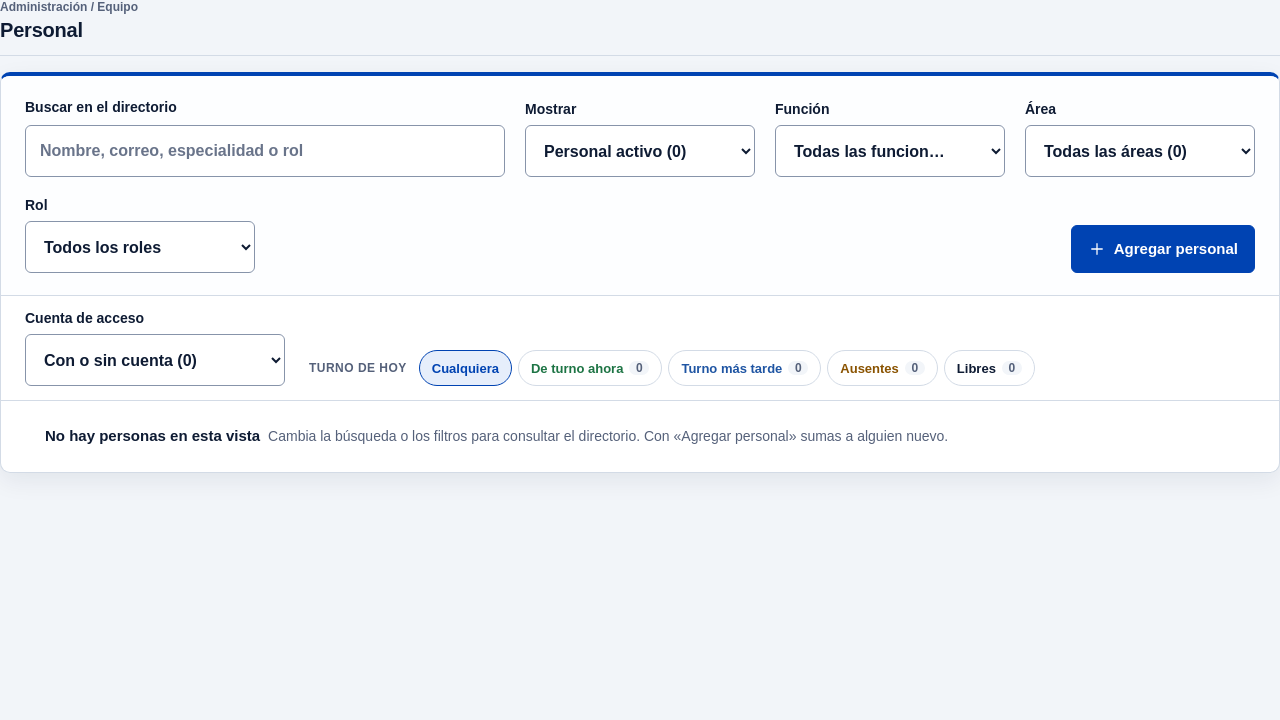
Test: G1 · registrar e invitar en un solo acto › sin la casilla registra solo la ficha y lo avisa
Click the button "Agregar personal".
click(1163, 249)  # box [1071, 225, 1255, 273]
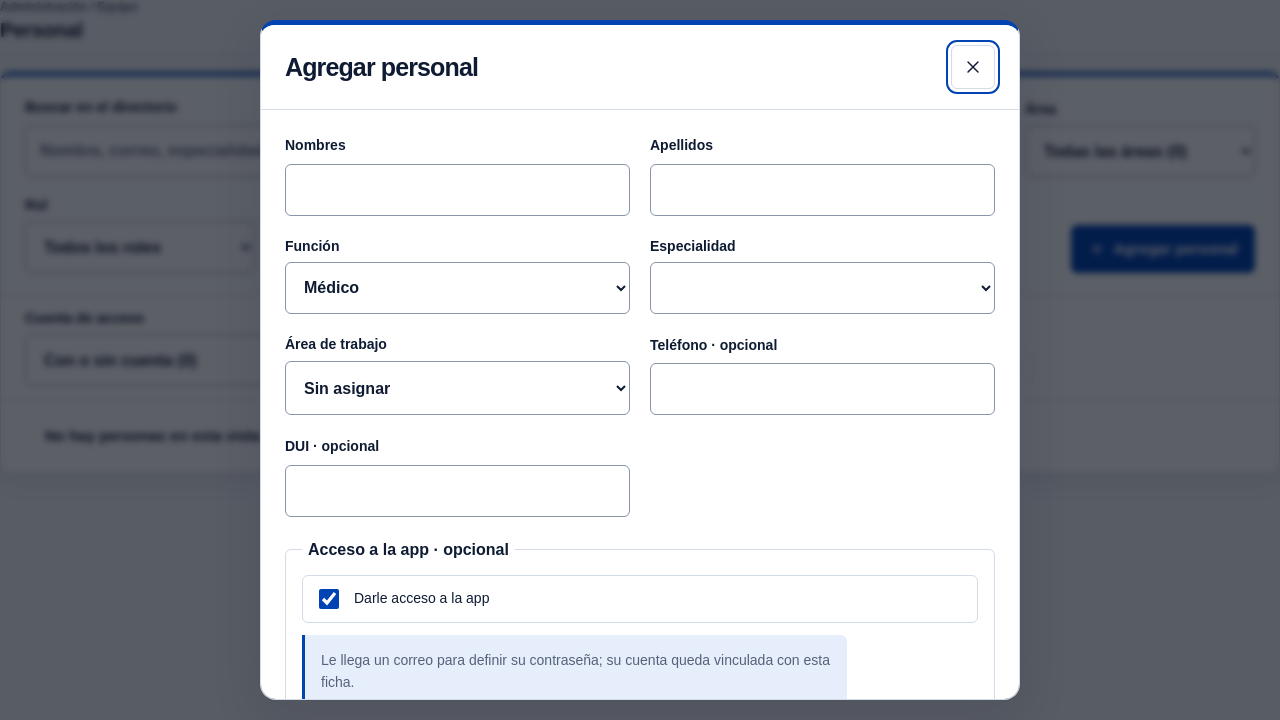
Type "Ana" into the field labelled "Nombres".
click(458, 190); type("Ana")  # box [285, 164, 630, 216]
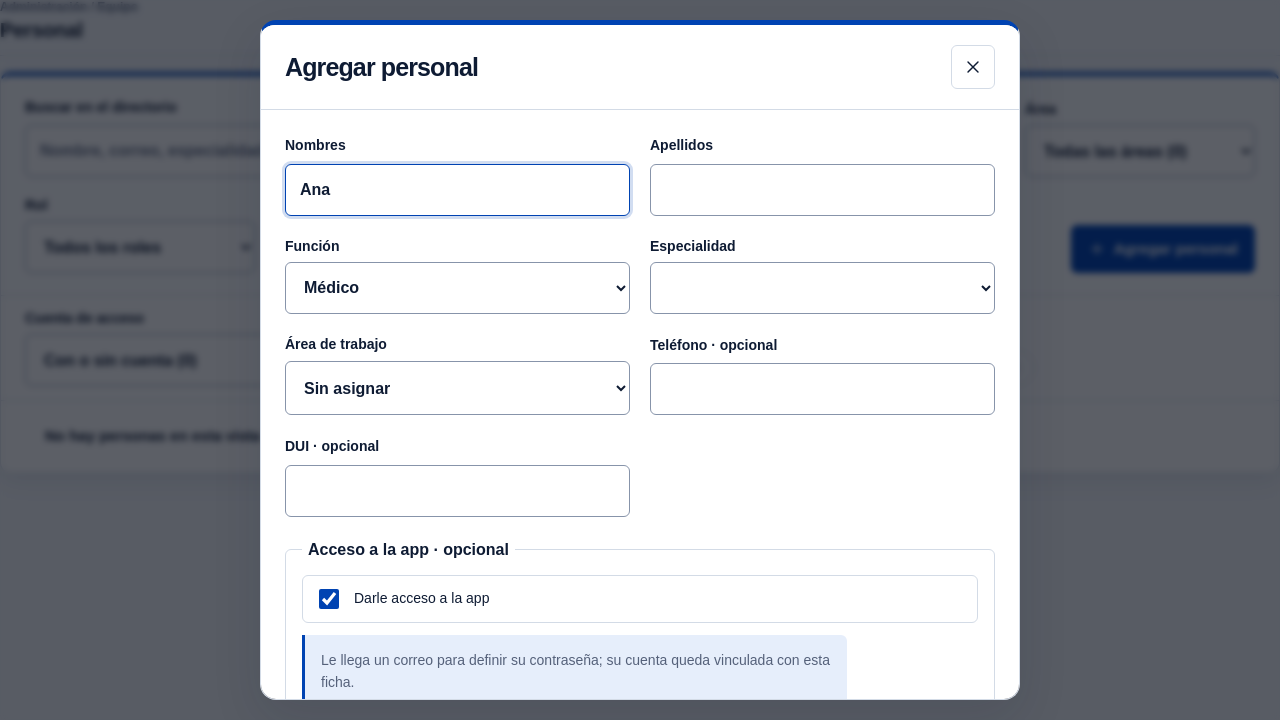
Type "Pérez Ficticia" into the field labelled "Apellidos".
click(822, 190); type("Pérez Ficticia")  # box [650, 164, 995, 216]
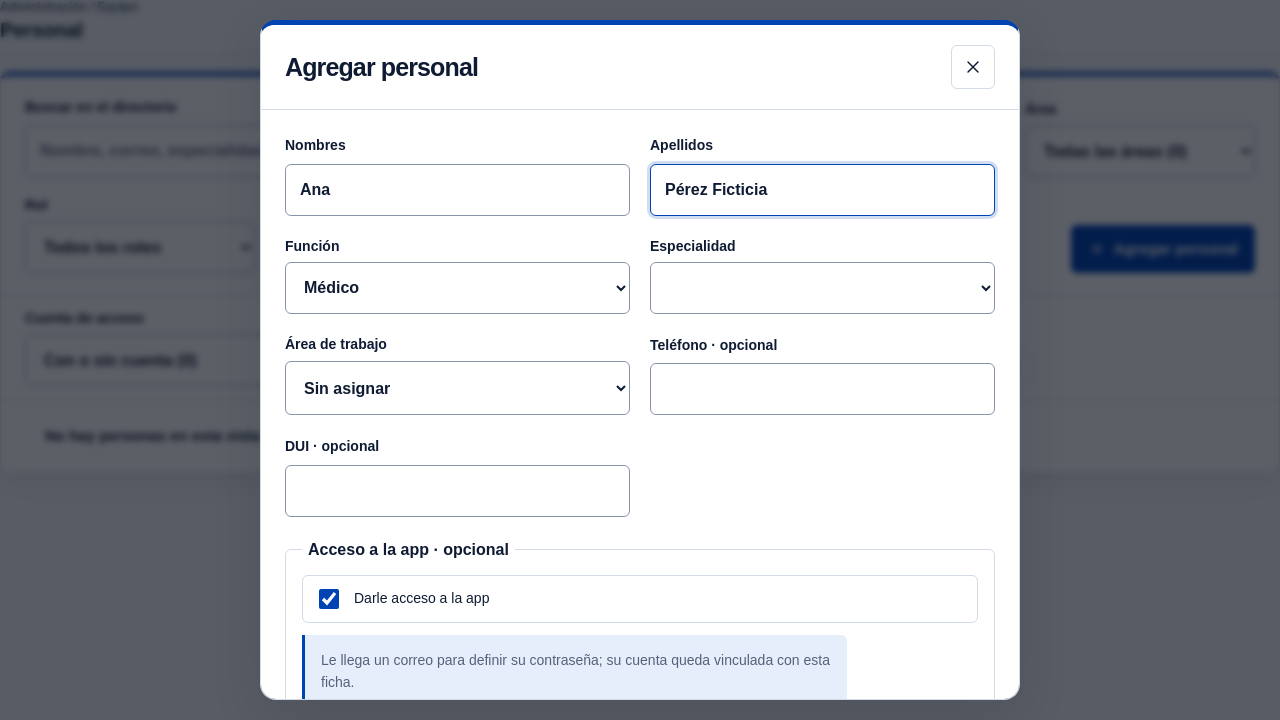
Click the checkbox labelled "Darle acceso a la app".
click(329, 599)  # box [319, 589, 339, 609]
(page scrolled)
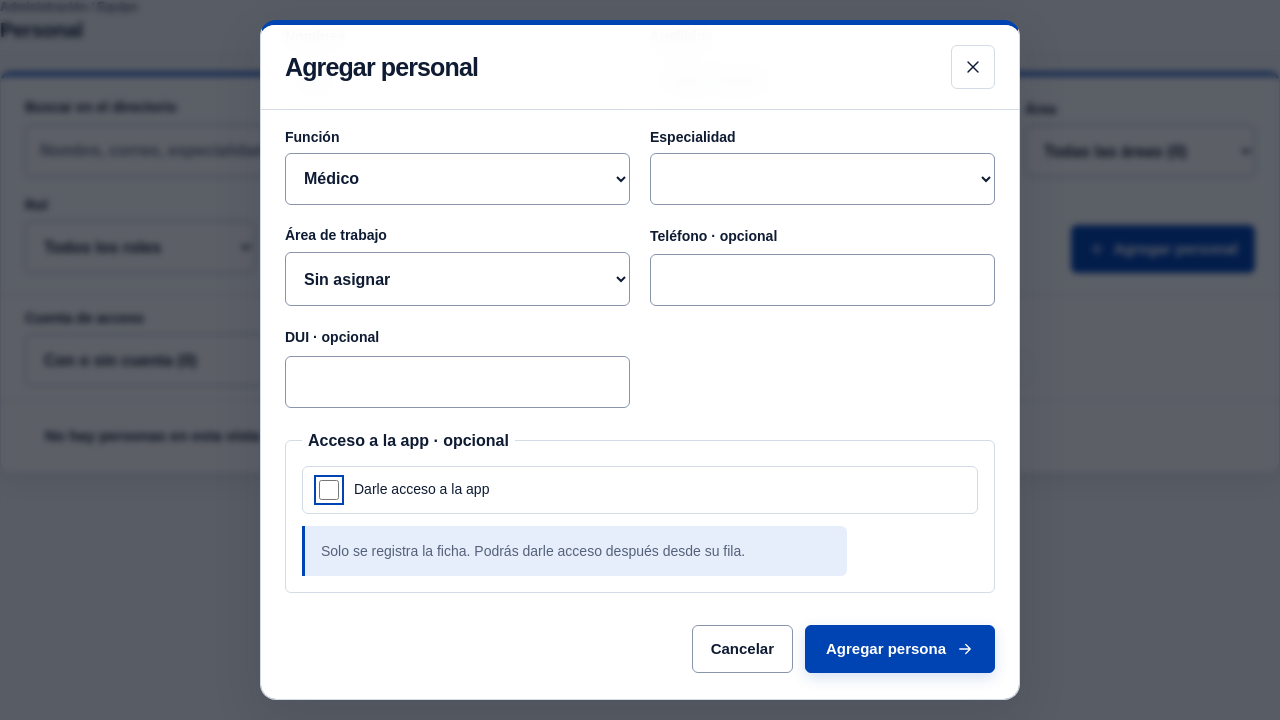
Click the button "Agregar persona".
click(900, 649)  # box [805, 625, 995, 673]
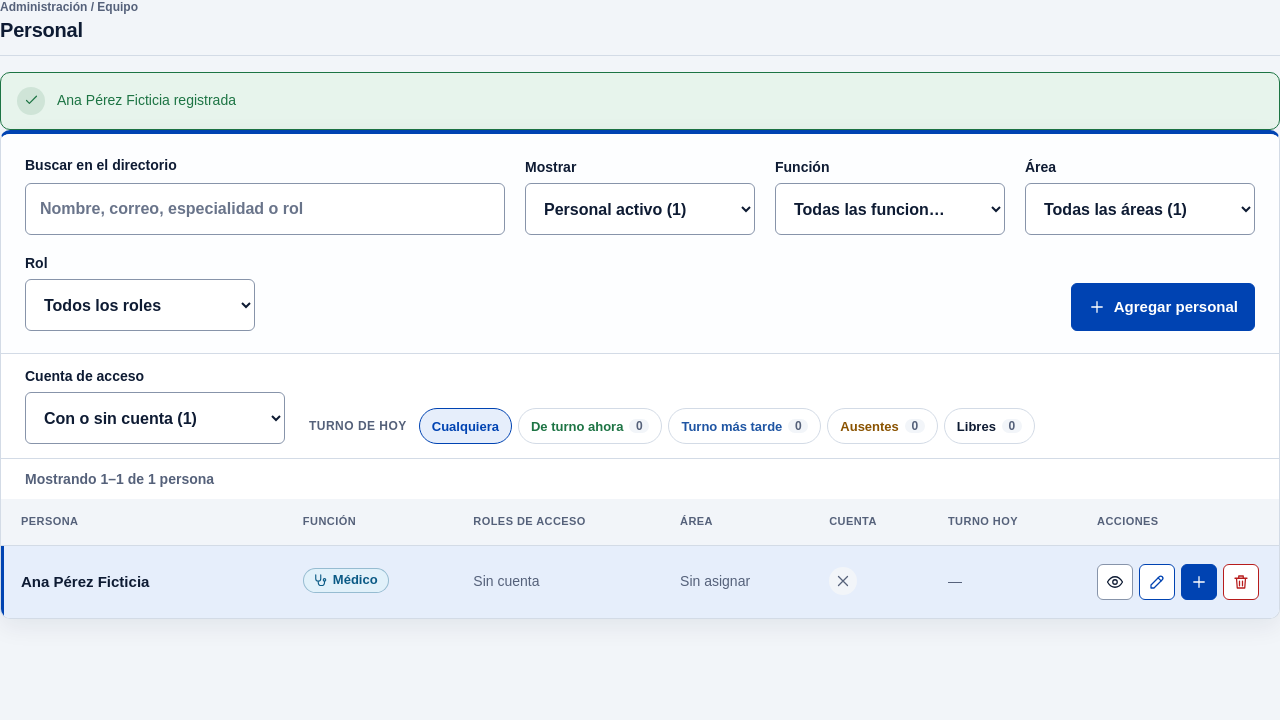
Expected: the text "Ana Pérez Ficticia registrada" is shown, [57, 87, 236, 111]
